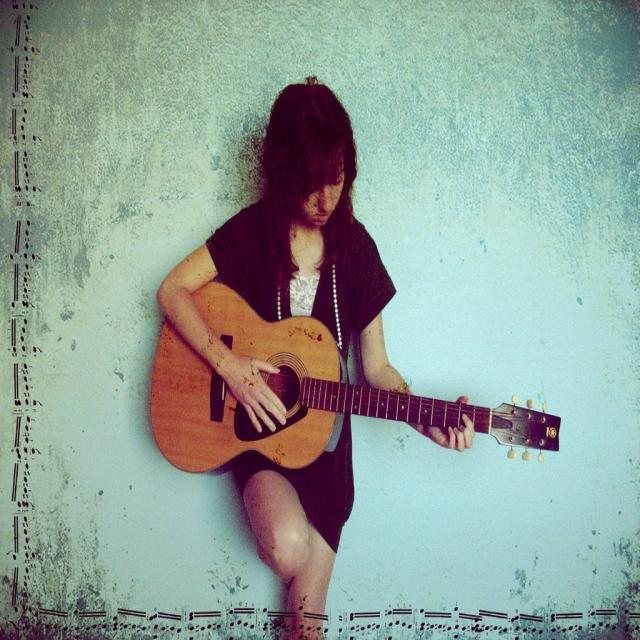guitar: (148, 278, 562, 476)
